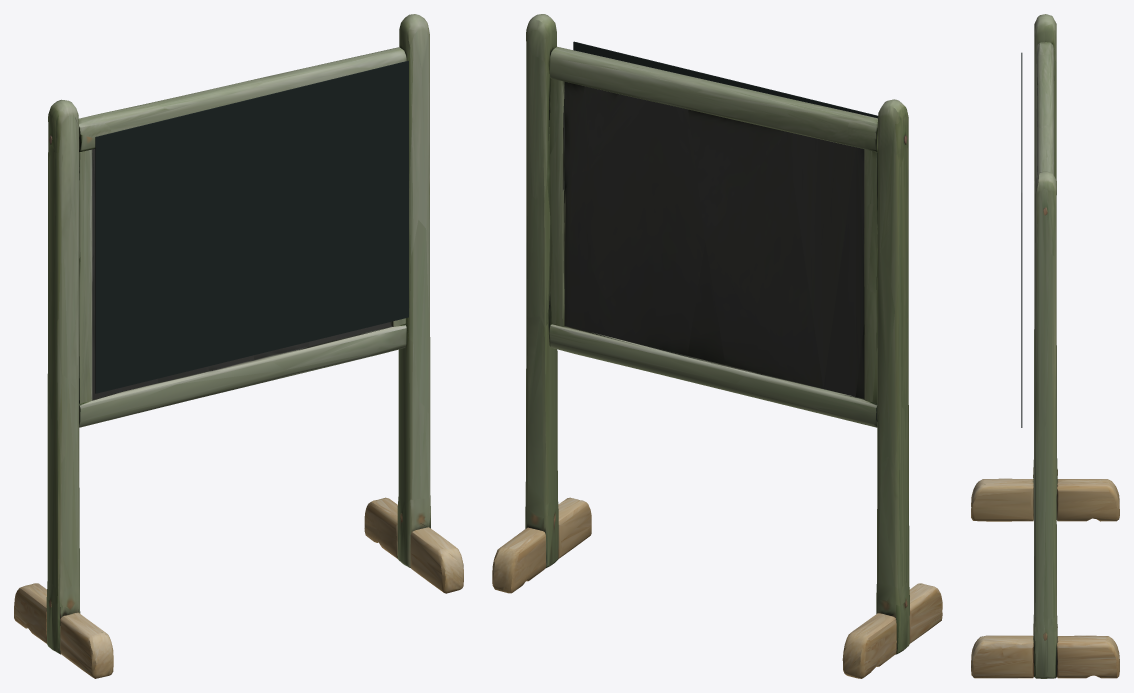
The model's file is sequence_blackboard.glb.
3 views of the same model, side by side, from view 1: azimuth 30°, elevation 25°; view 2: azimuth 150°, elevation 25°; view 3: azimuth 270°, elevation 25° (orthographic). The views are drawn at different scales.
Parts seen in each view (by area): view 1: Calibrated matte writing face, Tripo blackboard; view 2: Tripo blackboard, Calibrated matte writing face; view 3: Tripo blackboard, Calibrated matte writing face.
Boxes of the visible parts, box(x1,y1,x2,y2) form: Calibrated matte writing face: box(95, 60, 408, 393); Tripo blackboard: box(14, 14, 463, 678); Tripo blackboard: box(492, 14, 942, 678); Calibrated matte writing face: box(573, 41, 877, 118); Tripo blackboard: box(971, 14, 1119, 678); Calibrated matte writing face: box(1021, 52, 1022, 427).
Bounding box in the file's own units: 1.56 × 2.16 × 0.5792.
Materials: 2 (1 with a texture image).
